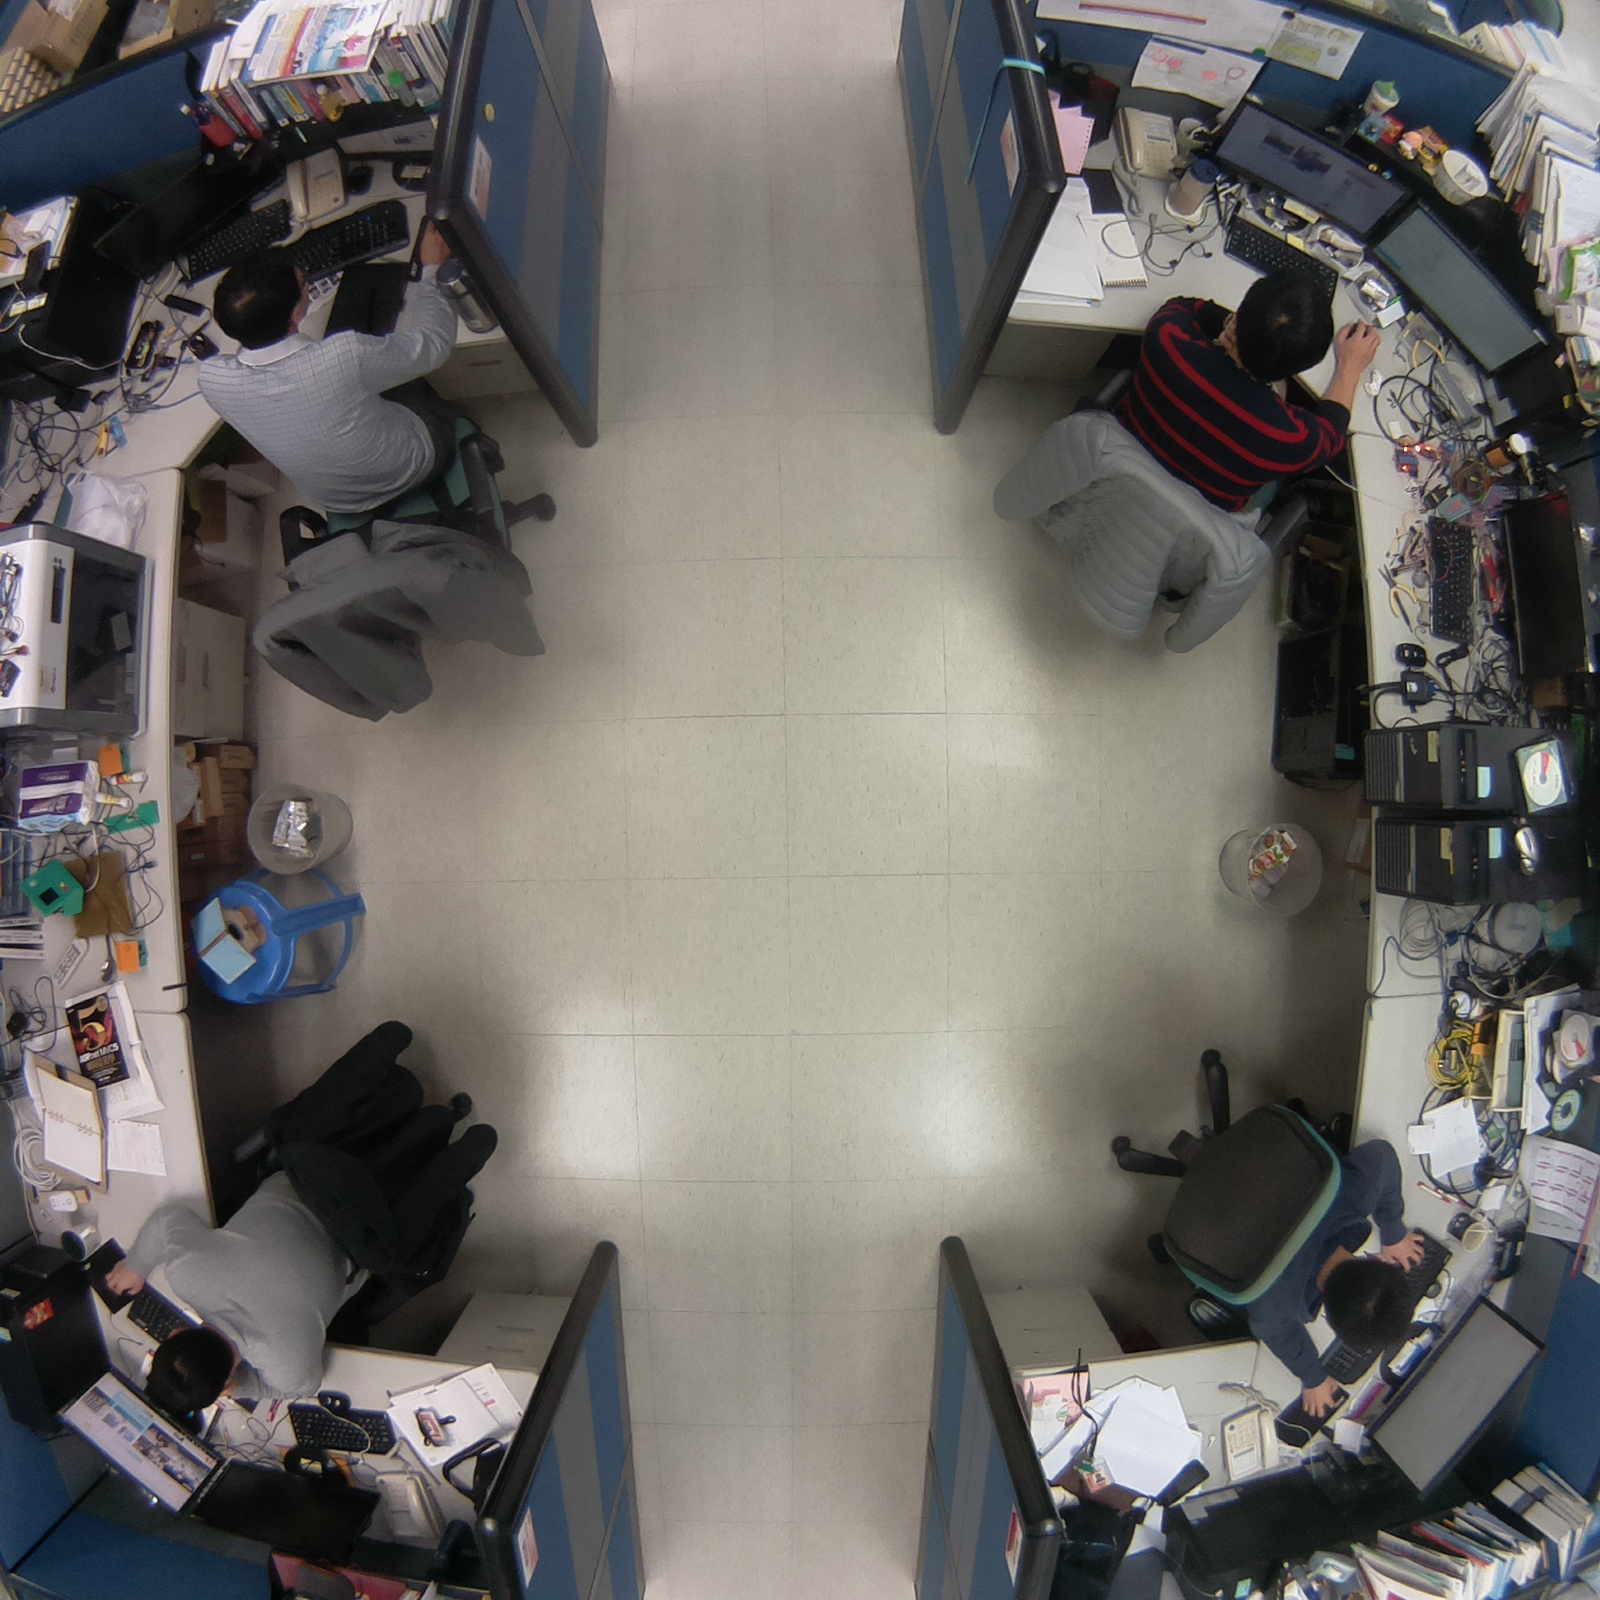head: (202, 242, 319, 361), (1227, 263, 1340, 378), (1317, 1246, 1423, 1363), (138, 1321, 244, 1423)
sitting: (187, 218, 570, 734), (963, 251, 1384, 668), (102, 1004, 512, 1429), (1099, 1034, 1433, 1420)
